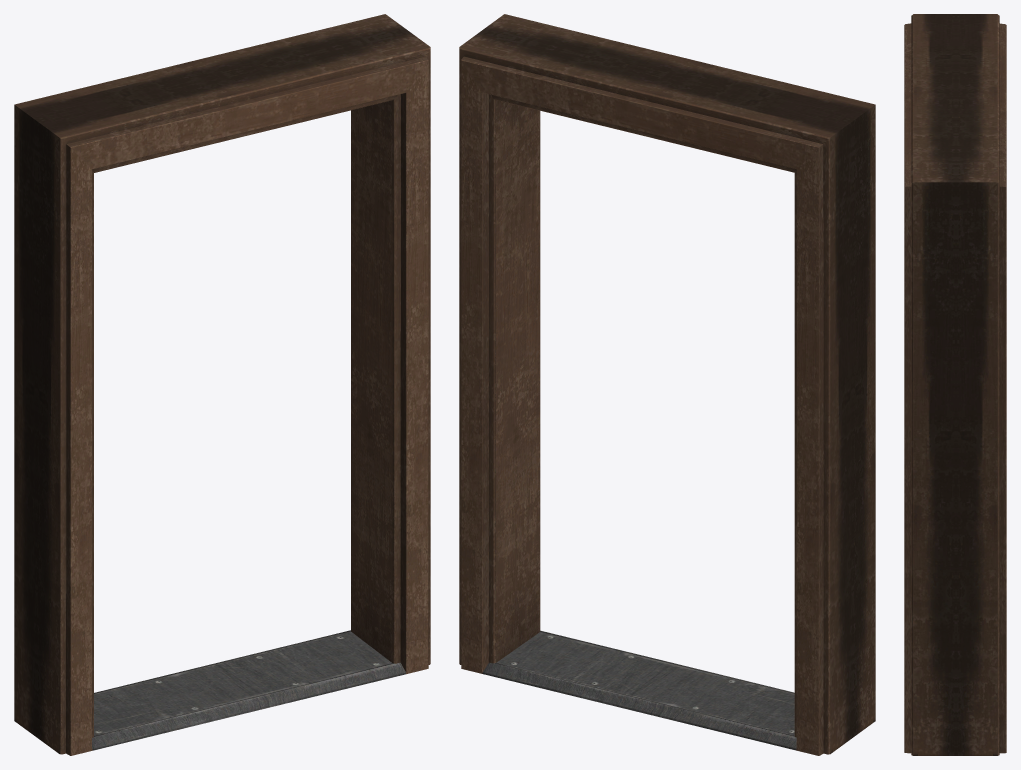
File: scanroom_corridor_doorframe_narrow.dae
3 views of the same model, side by side, from view 1: azimuth 30°, elevation 25°; view 2: azimuth 150°, elevation 25°; view 3: azimuth 270°, elevation 25° (orthographic). The views are drawn at different scales.
Visible parts, largest first — view 1: polySurface205; view 2: polySurface205; view 3: polySurface205.
Part boxes in pixels (x1,y1,x2,y2): polySurface205: (14,14,430,755); polySurface205: (459,14,875,755); polySurface205: (904,14,1006,755).
Size of the model in its own units: 1.87 by 2.97 by 0.4787.
